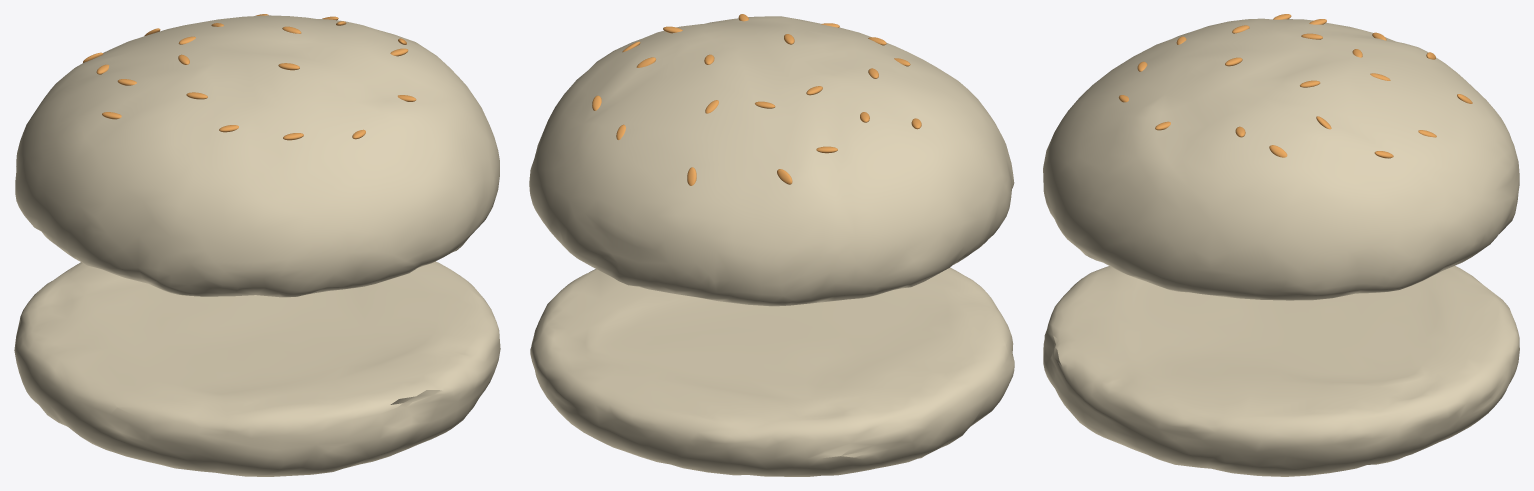
File: White_Bread.fbx
The picture shows the model from 3 angles, left to right: view 1: azimuth 30°, elevation 25°; view 2: azimuth 150°, elevation 25°; view 3: azimuth 270°, elevation 25°; orthographic projection.
Parts seen in each view (by area): view 1: ust_ekmek, Alt_ekmek; view 2: ust_ekmek, Alt_ekmek; view 3: ust_ekmek, Alt_ekmek.
Boxes of the visible parts, x1,y1,x2,y2 form: ust_ekmek: (15,14,499,297); Alt_ekmek: (14,261,500,476); ust_ekmek: (529,14,1014,306); Alt_ekmek: (530,267,1014,476); ust_ekmek: (1043,14,1519,300); Alt_ekmek: (1043,266,1519,476).
Size of the model in its own units: 20.37 by 15.92 by 20.37.
